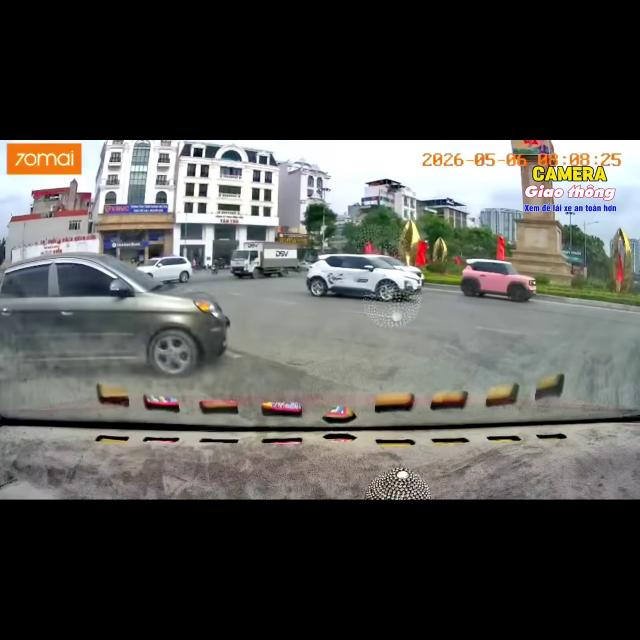car: (0, 253, 230, 376), (307, 254, 421, 301), (461, 259, 536, 301), (137, 256, 192, 282), (380, 256, 424, 283)
motorcycle: (210, 264, 217, 274)
truck: (230, 241, 298, 277)
